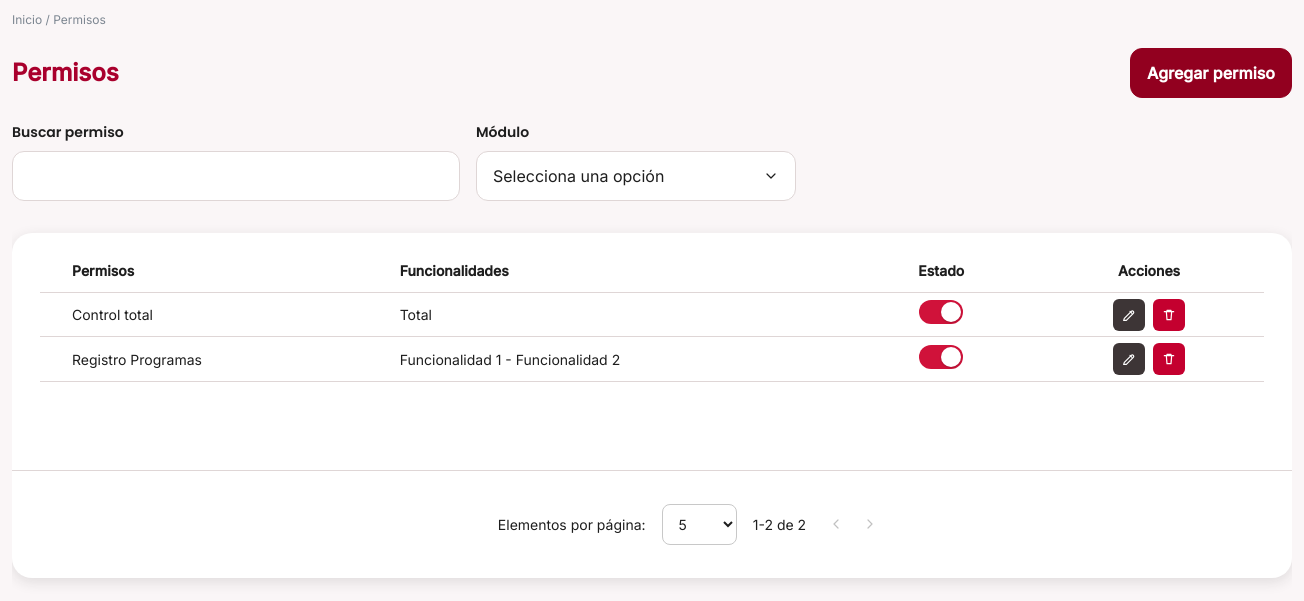
Test: AdminPermissionsComponent › asks the catalog again when the search changes
Type "programa" into the search field at (236, 176), box [12,151,460,201]
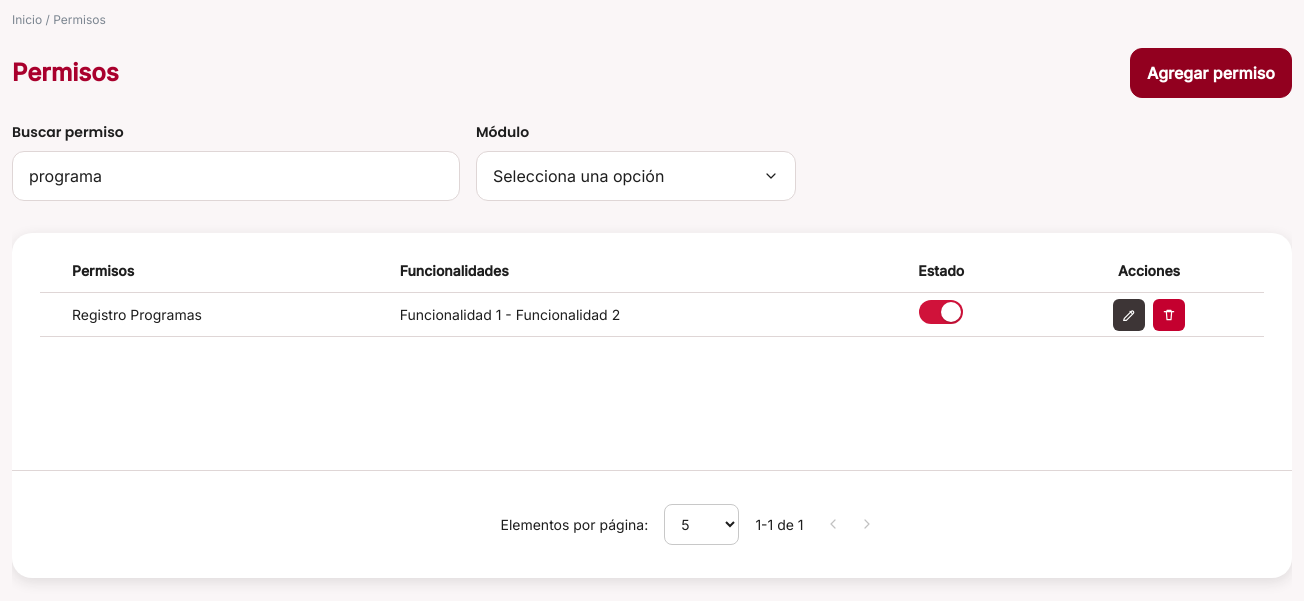
Check: the table shows "Registro Programas", box [72,306,202,323]
Check: the cell no longer shows "Control total"
